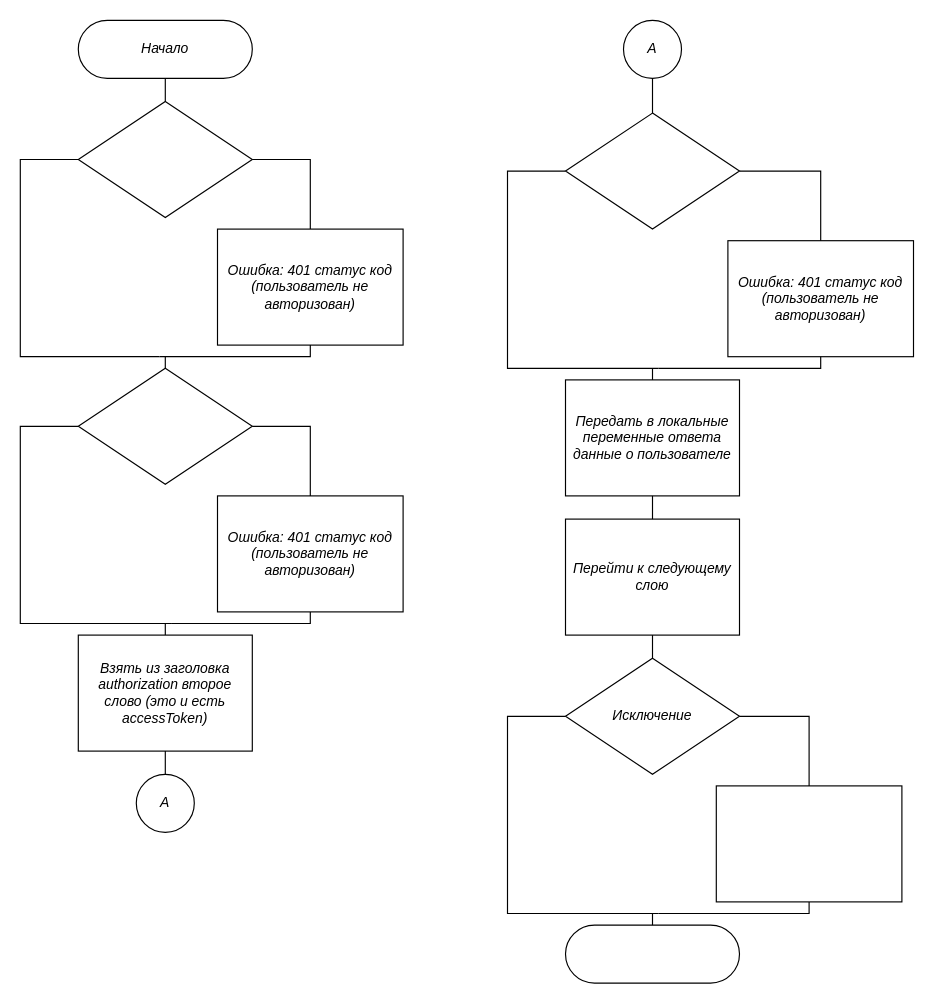
The diagram is 934 pixels wide and 1003 high, and some of its shapes have lost their labels. The box of each missing label's shape, as (x1, y1, x2, y2) in pixels:
accessToken не валиден: (564, 112, 740, 229)
В запросе нет заголовка authorization: (77, 100, 252, 217)
Заголовок не состоит из двух слов или первое из них это не Bearer: (77, 367, 252, 484)
Конец: (564, 924, 740, 983)
Перейти к следующему слою, передав ошибку: (715, 785, 902, 902)
